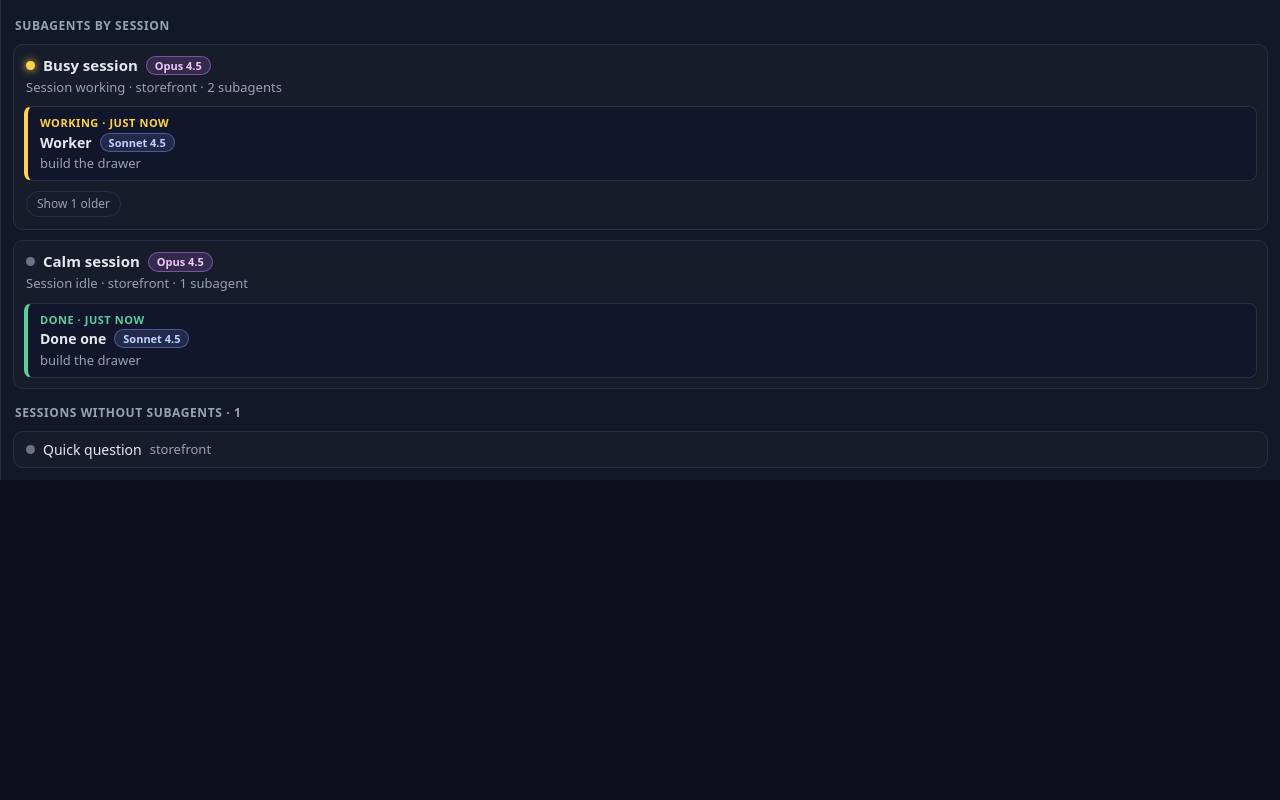
Test: SessionPanel › hides idle subagents until asked
Expected: the text "Sleeper" is not shown
Click the button "Show 1 older": click(74, 204) [26,191,121,217]
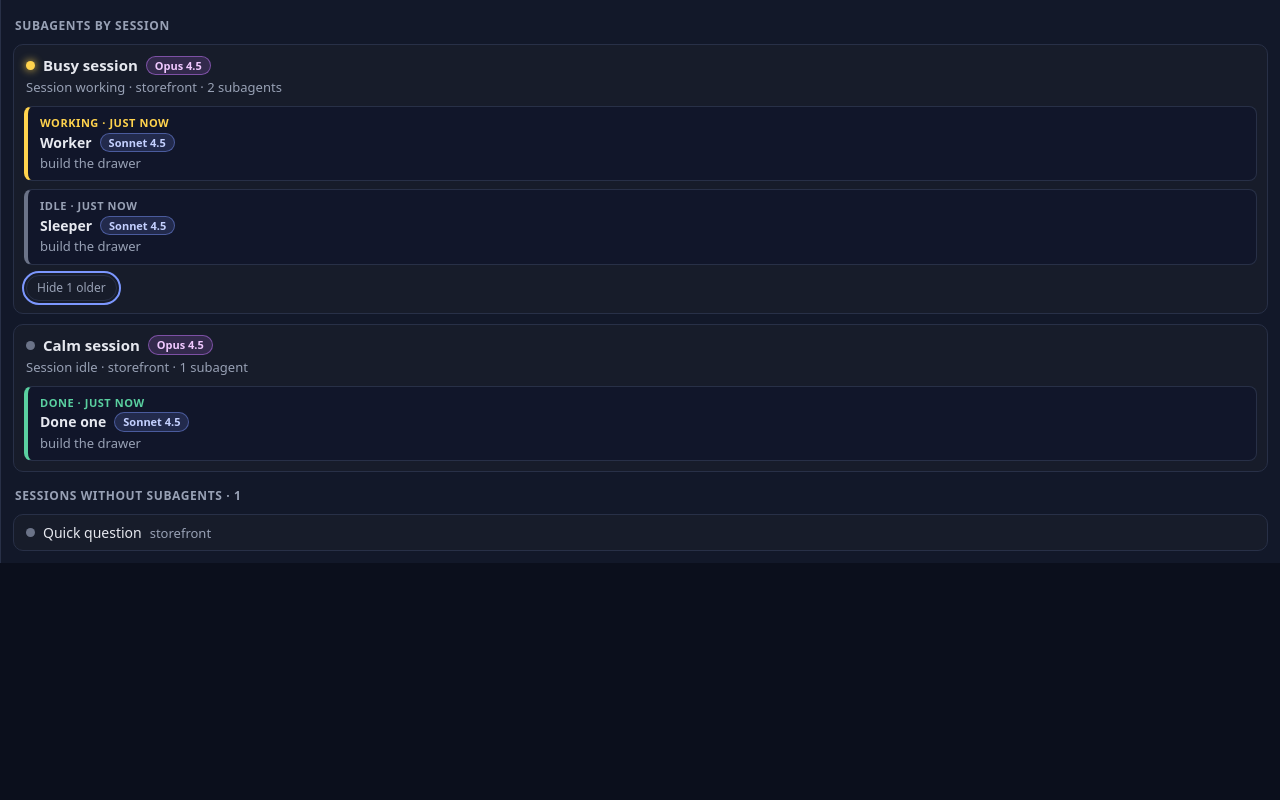
Expected: the text "Sleeper" is shown, [40,216,92,235]
Expected: the button "Hide 1 older" is expanded, [26,274,117,300]
